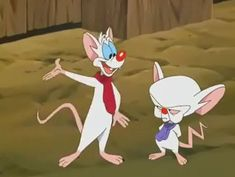cerebro: (143, 59, 226, 167)
pink: (34, 21, 136, 169)
